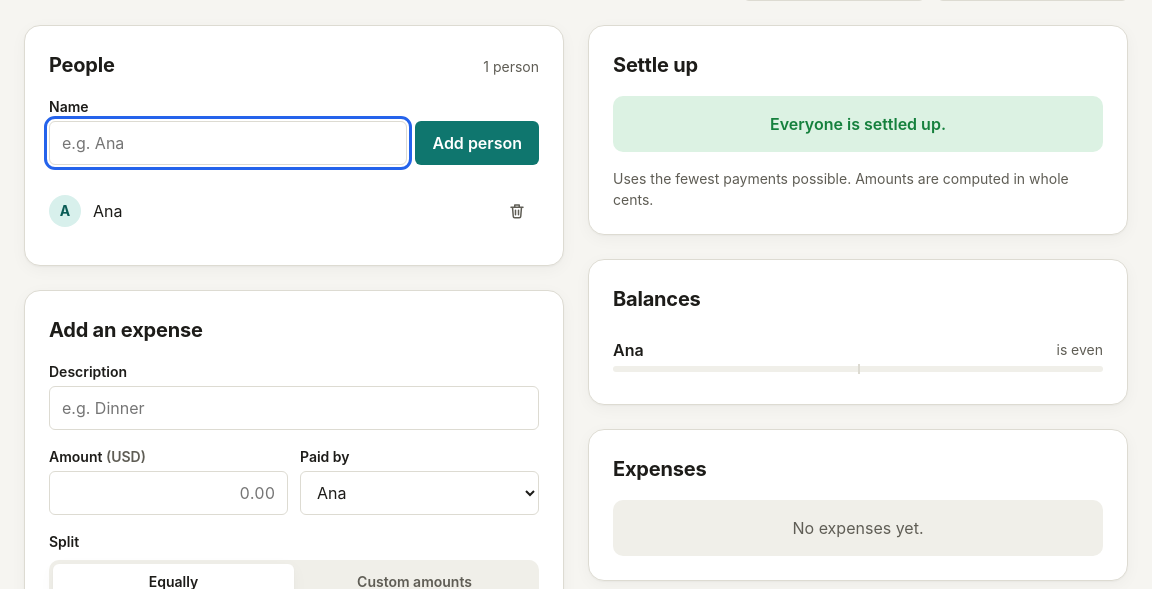
App › splits an expense equally and shows who pays whom
Earlier steps of the test are not shown.
Type "Bruno" into the field labelled "Name" at (228, 143), box [49,121,408,165]
Then press Enter
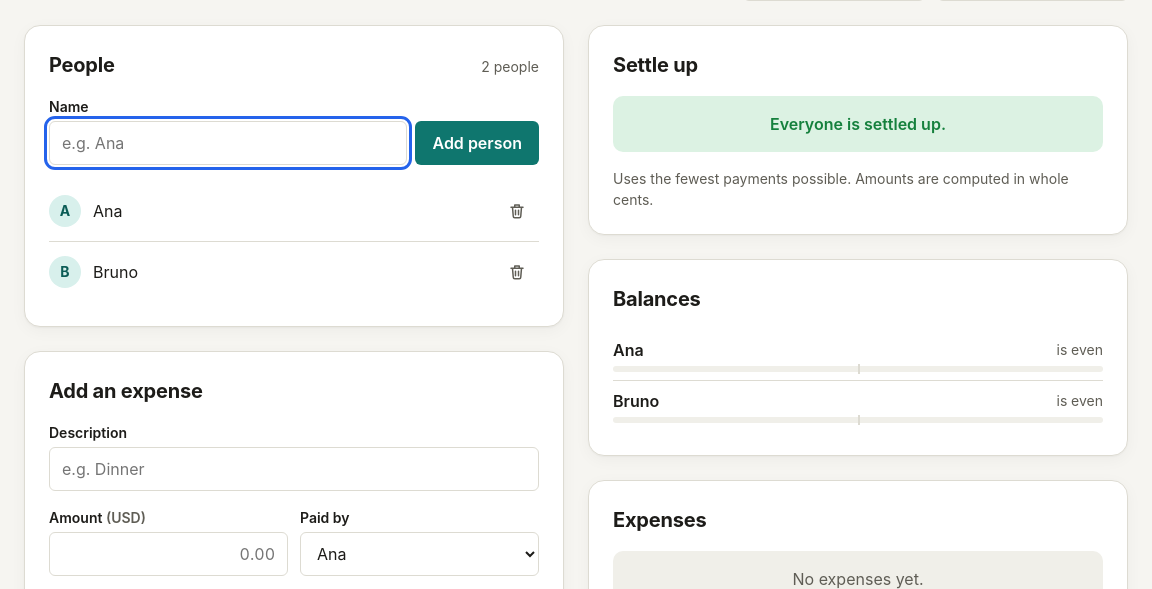
Type "Carla" into the field labelled "Name" at (228, 143), box [49,121,408,165]
Then press Enter
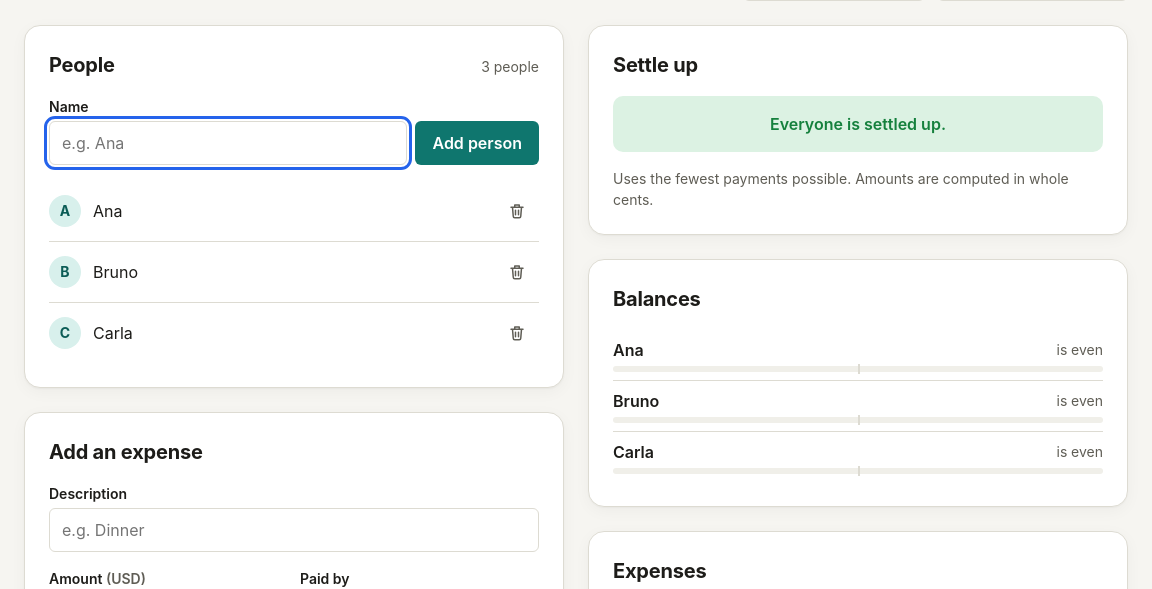
Type "Dinner" into the field labelled "Description" at (294, 530), box [49,508,539,552]
(page scrolled)
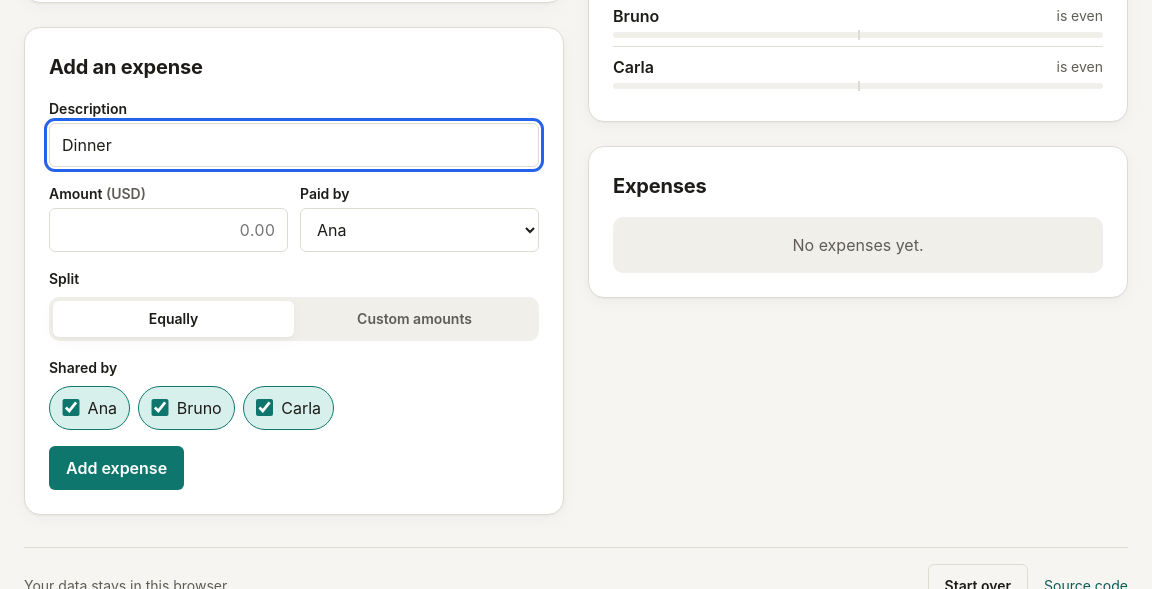
Type "90" into the field labelled "Amount (USD)" at (168, 230), box [49,208,288,252]
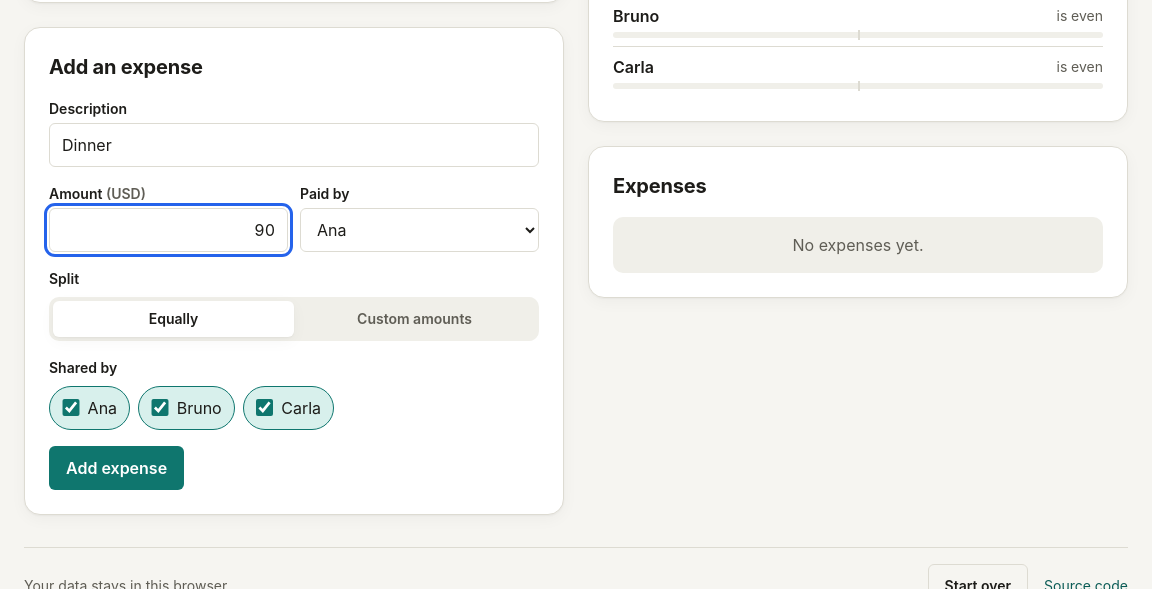
Select "Ana" in the dropdown labelled "Paid by" at (420, 230), box [300,208,539,252]
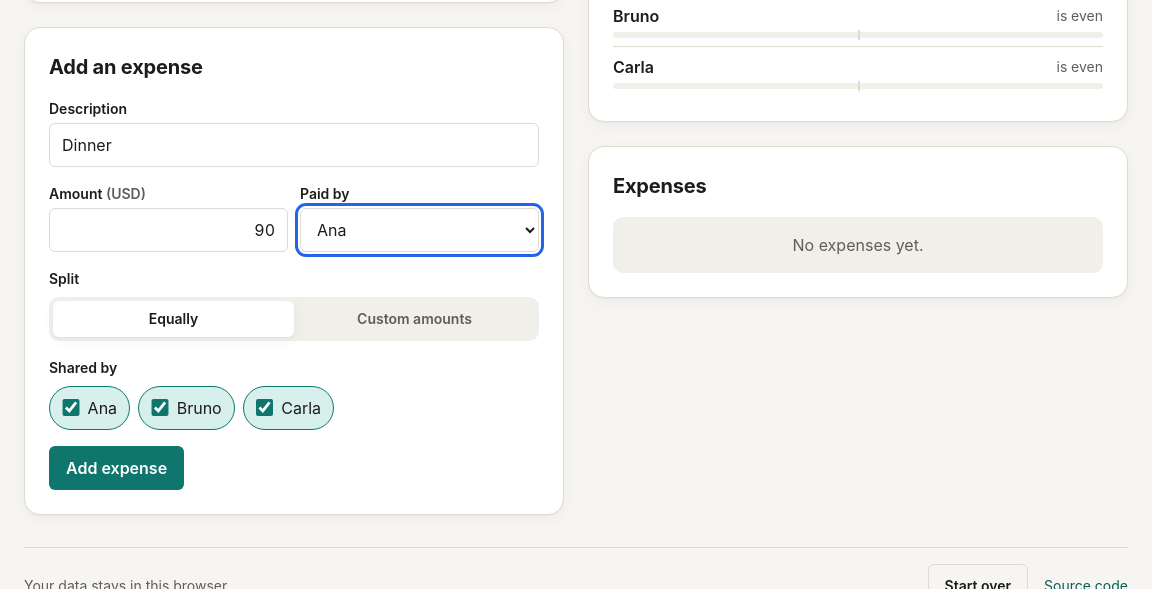
Click the button "Add expense" at (117, 468), box [49,446,184,490]
(page scrolled)
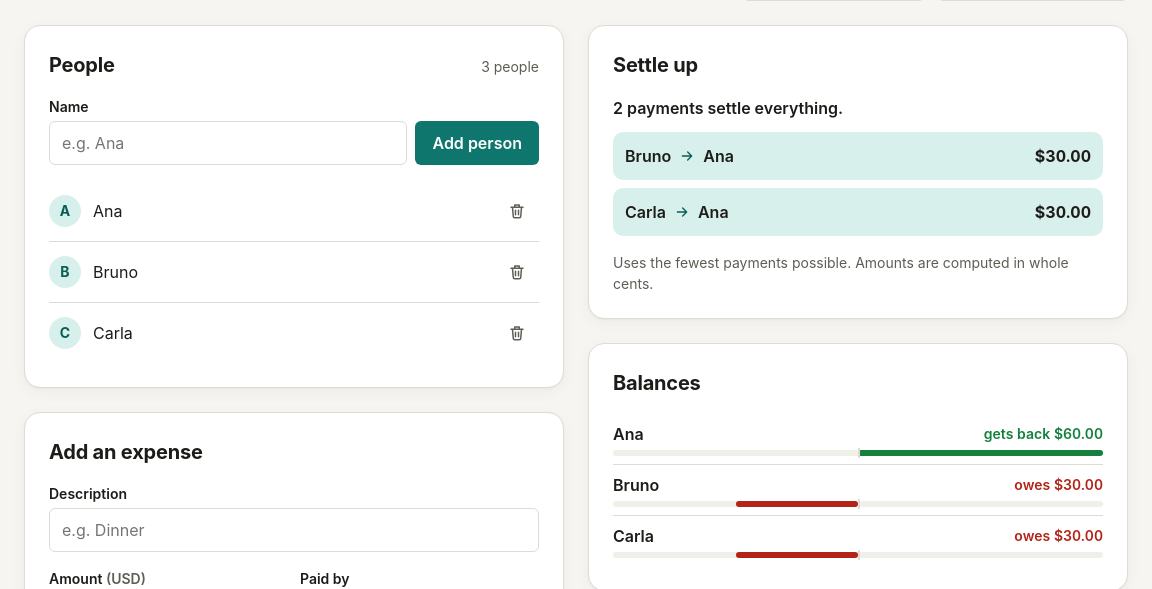
Result: the text "owes $30.00" is shown 2 times at [1014,474,1103,495]; [1014,525,1103,546]
Result: the text "gets back $60.00" is shown at [984,423,1103,444]
Result: the text "2 payments settle everything." is shown at [613,98,843,118]
